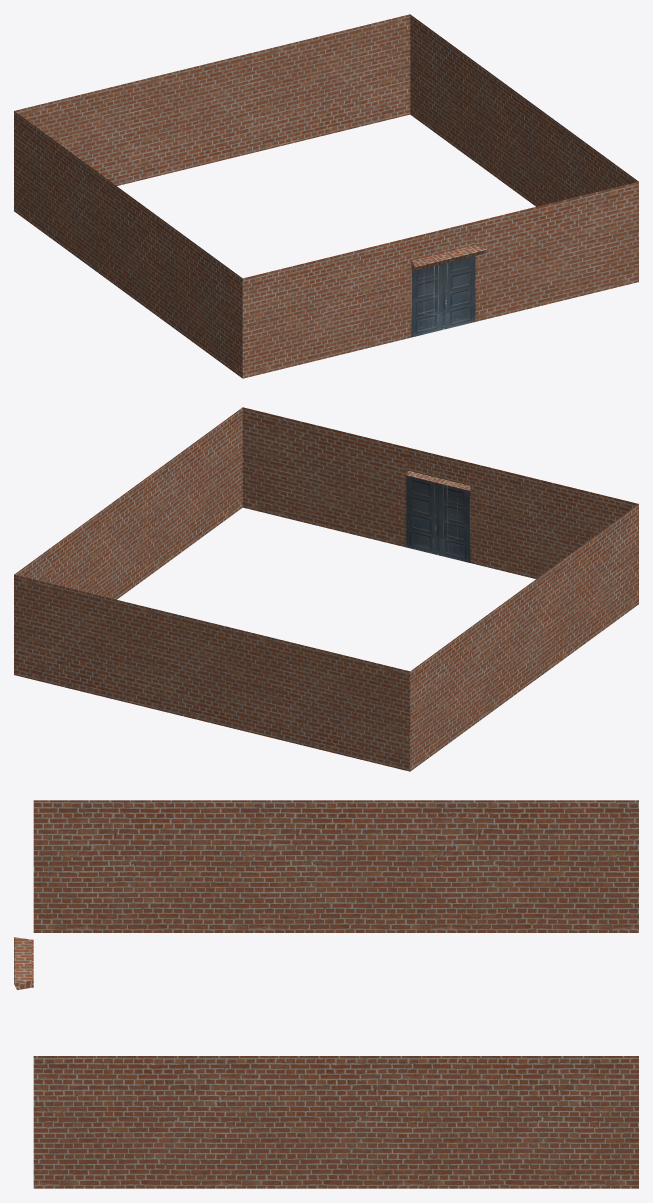
Rendered from floor_ground.fbx.
3 views of the same model, one above another, from view 1: azimuth 30°, elevation 25°; view 2: azimuth 150°, elevation 25°; view 3: azimuth 270°, elevation 25° (orthographic). The views are drawn at different scales.
Parts seen in each view (by area): view 1: GroundFloor; view 2: GroundFloor; view 3: GroundFloor.
Part boxes in pixels (x1,y1,x2,y2): GroundFloor: (14,14,638,378); GroundFloor: (14,407,638,771); GroundFloor: (14,800,638,1188).
Size of the model in its own units: 12.4 by 3 by 12.8.
